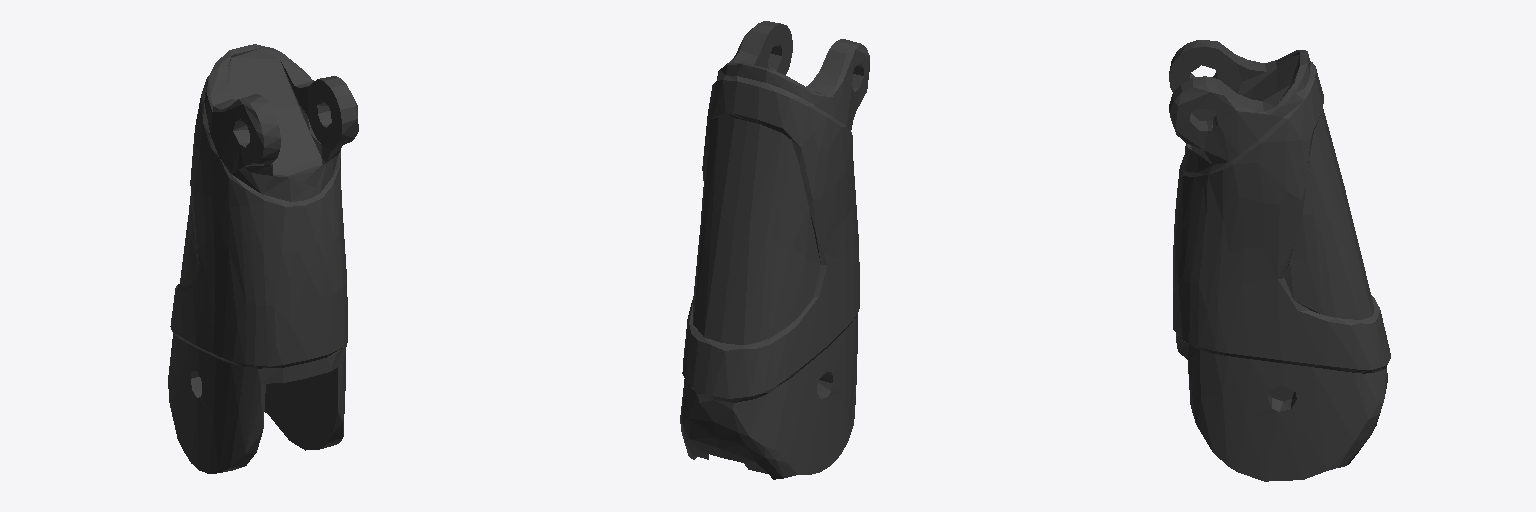
Rendered from R_index_distalR_middle_proximal.obj.
3 renders of one model, left to right at view 1: azimuth 30°, elevation 25°; view 2: azimuth 150°, elevation 25°; view 3: azimuth 270°, elevation 25°, orthographic.
Size of the model in its own units: 0.0143 by 0.0447 by 0.0227.